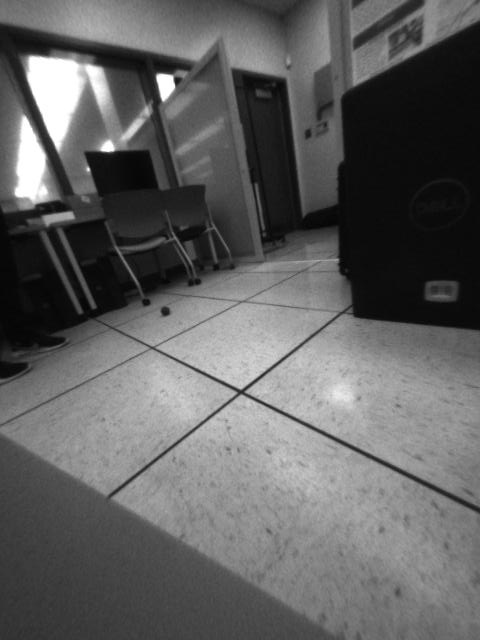dogtoy: (154, 301, 177, 321)
